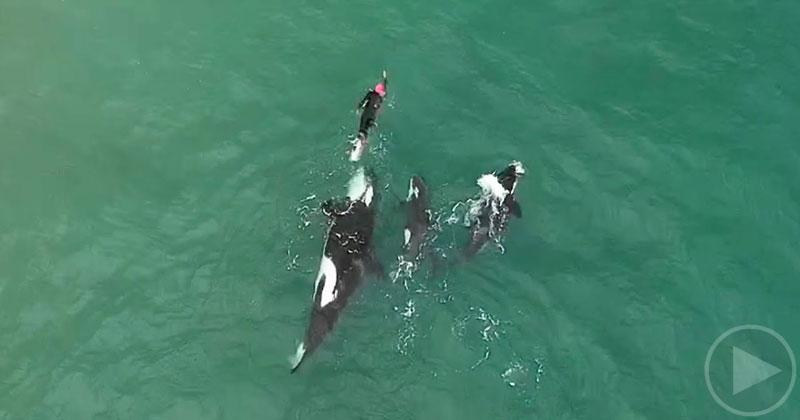human: (345, 70, 387, 163)
